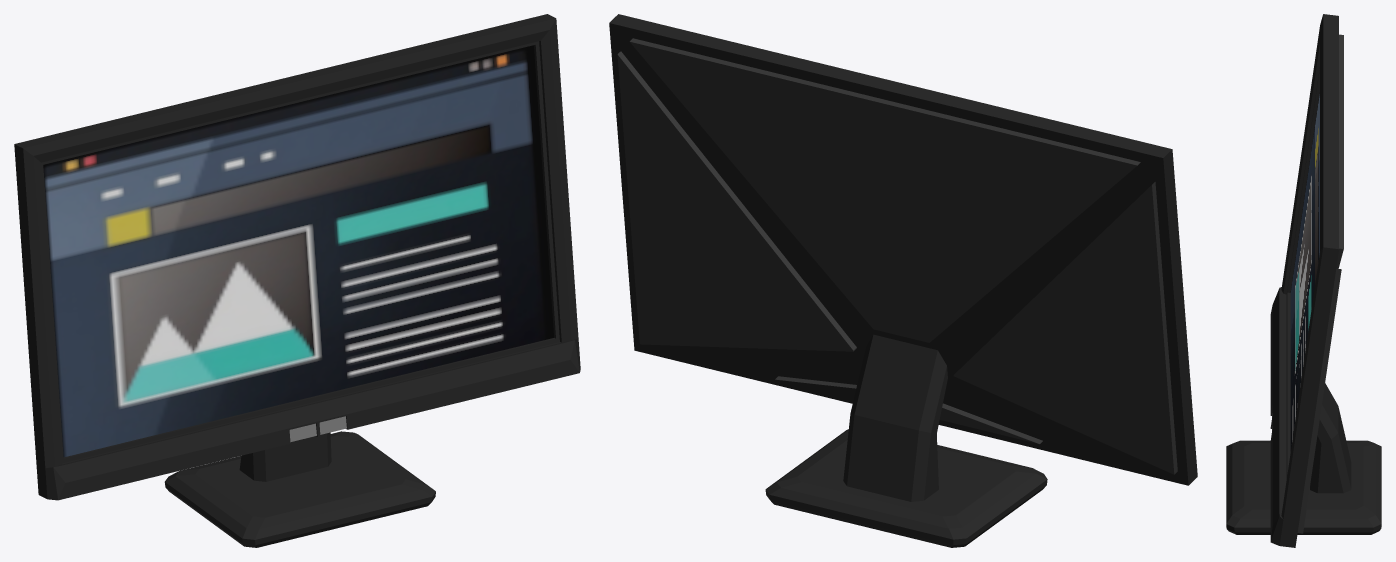
File: Int_TechMonitor01.fbx
3 views of the same model, side by side, from view 1: azimuth 30°, elevation 25°; view 2: azimuth 150°, elevation 25°; view 3: azimuth 270°, elevation 25° (orthographic). The views are drawn at different scales.
Visible parts, largest first — view 1: Int_TechMonitor01; view 2: Int_TechMonitor01; view 3: Int_TechMonitor01.
Boxes of the visible parts, <box> form: Int_TechMonitor01: <box>14,14,580,547</box>; Int_TechMonitor01: <box>609,14,1197,547</box>; Int_TechMonitor01: <box>1226,14,1381,547</box>.
Size of what is drawn, in the model's own units: 83.36 by 23.48 by 60.52.
